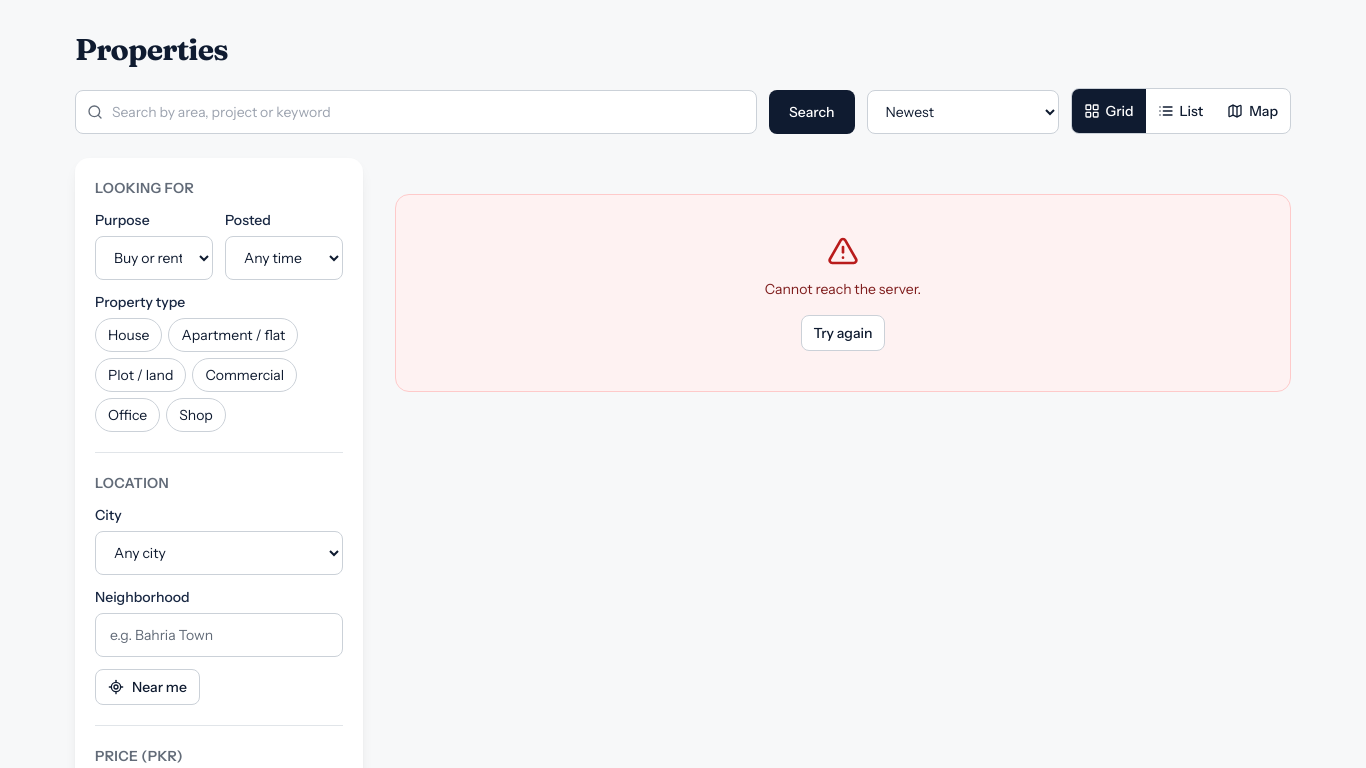
Test: search page › shows the error state with a retry that refetches
Expected: the text "Cannot reach the server." is shown, [765, 279, 921, 299]
Click the button "Try again". click: (843, 333)
box: [800, 315, 885, 351]
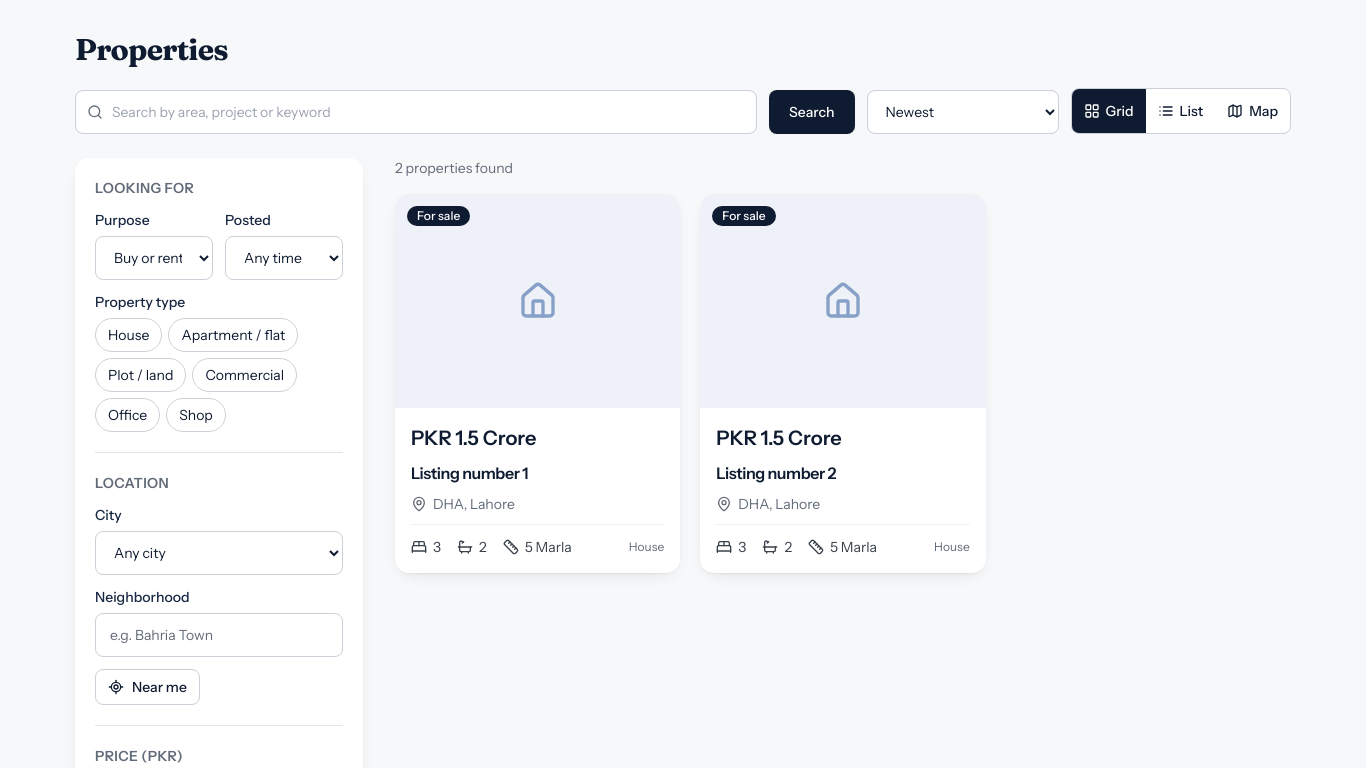
Now the link "Listing number 1" is shown, box [411, 463, 528, 483]
